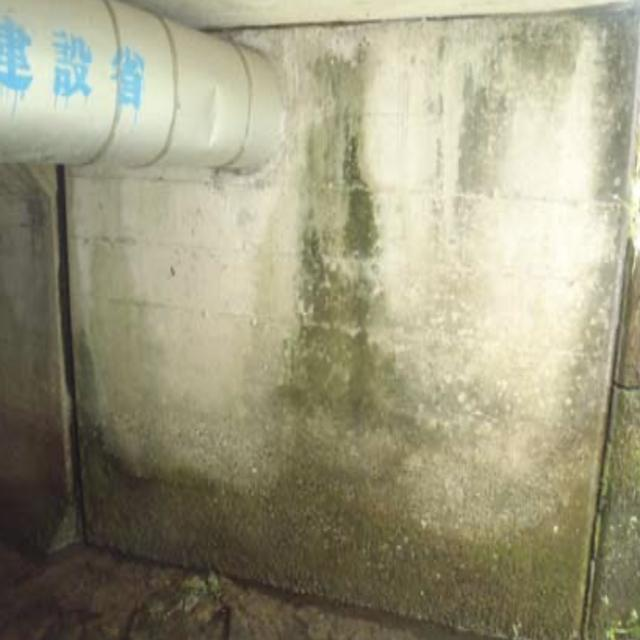freelime: (213, 14, 380, 86)
